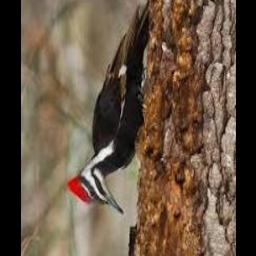Woodpecker: (68, 1, 150, 214)
